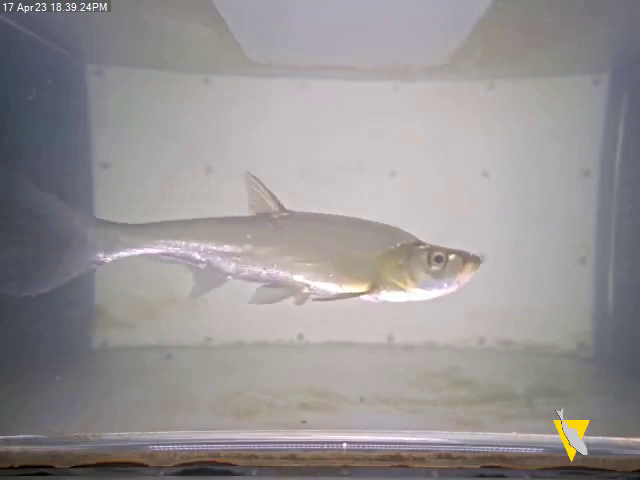\uAC15\uC900\uCE58: (1, 159, 497, 308)
